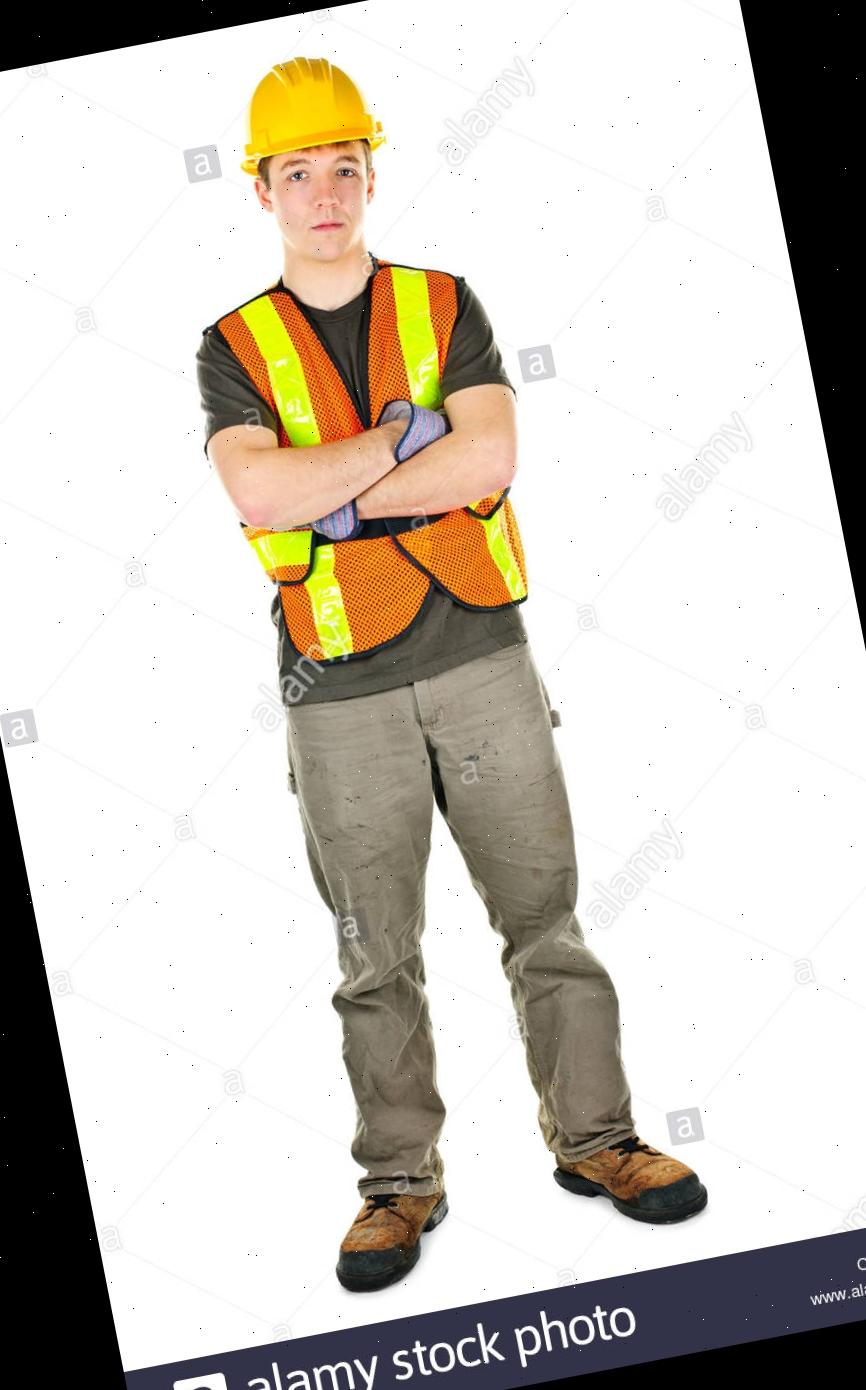helmet: (225, 47, 389, 182)
wear: (192, 252, 538, 679)
